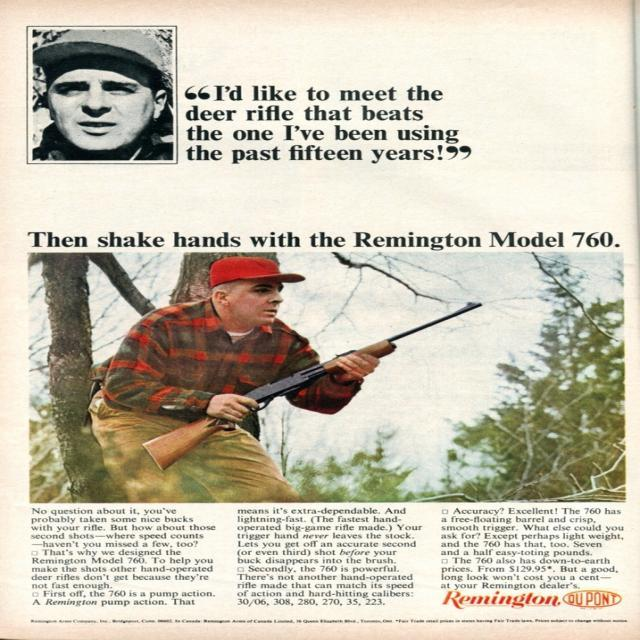weapon: (142, 299, 484, 466)
